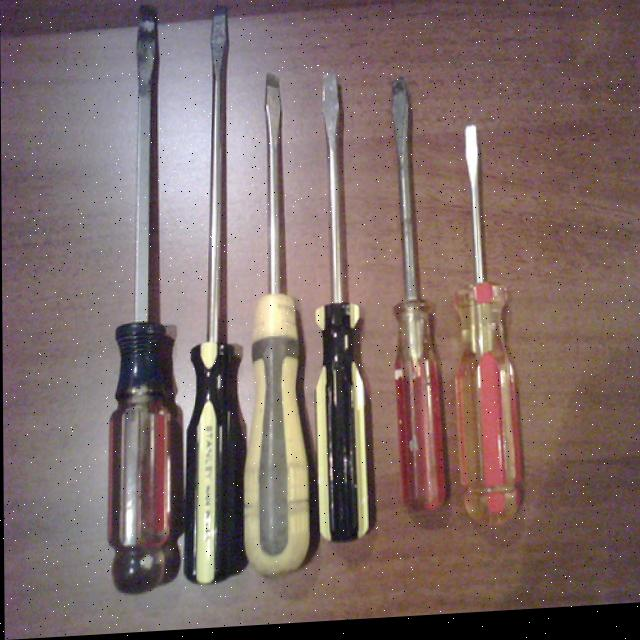Screwdriver: (107, 7, 183, 594), (183, 10, 246, 585), (243, 78, 309, 577), (454, 131, 522, 527), (315, 77, 368, 544), (392, 83, 447, 515)
